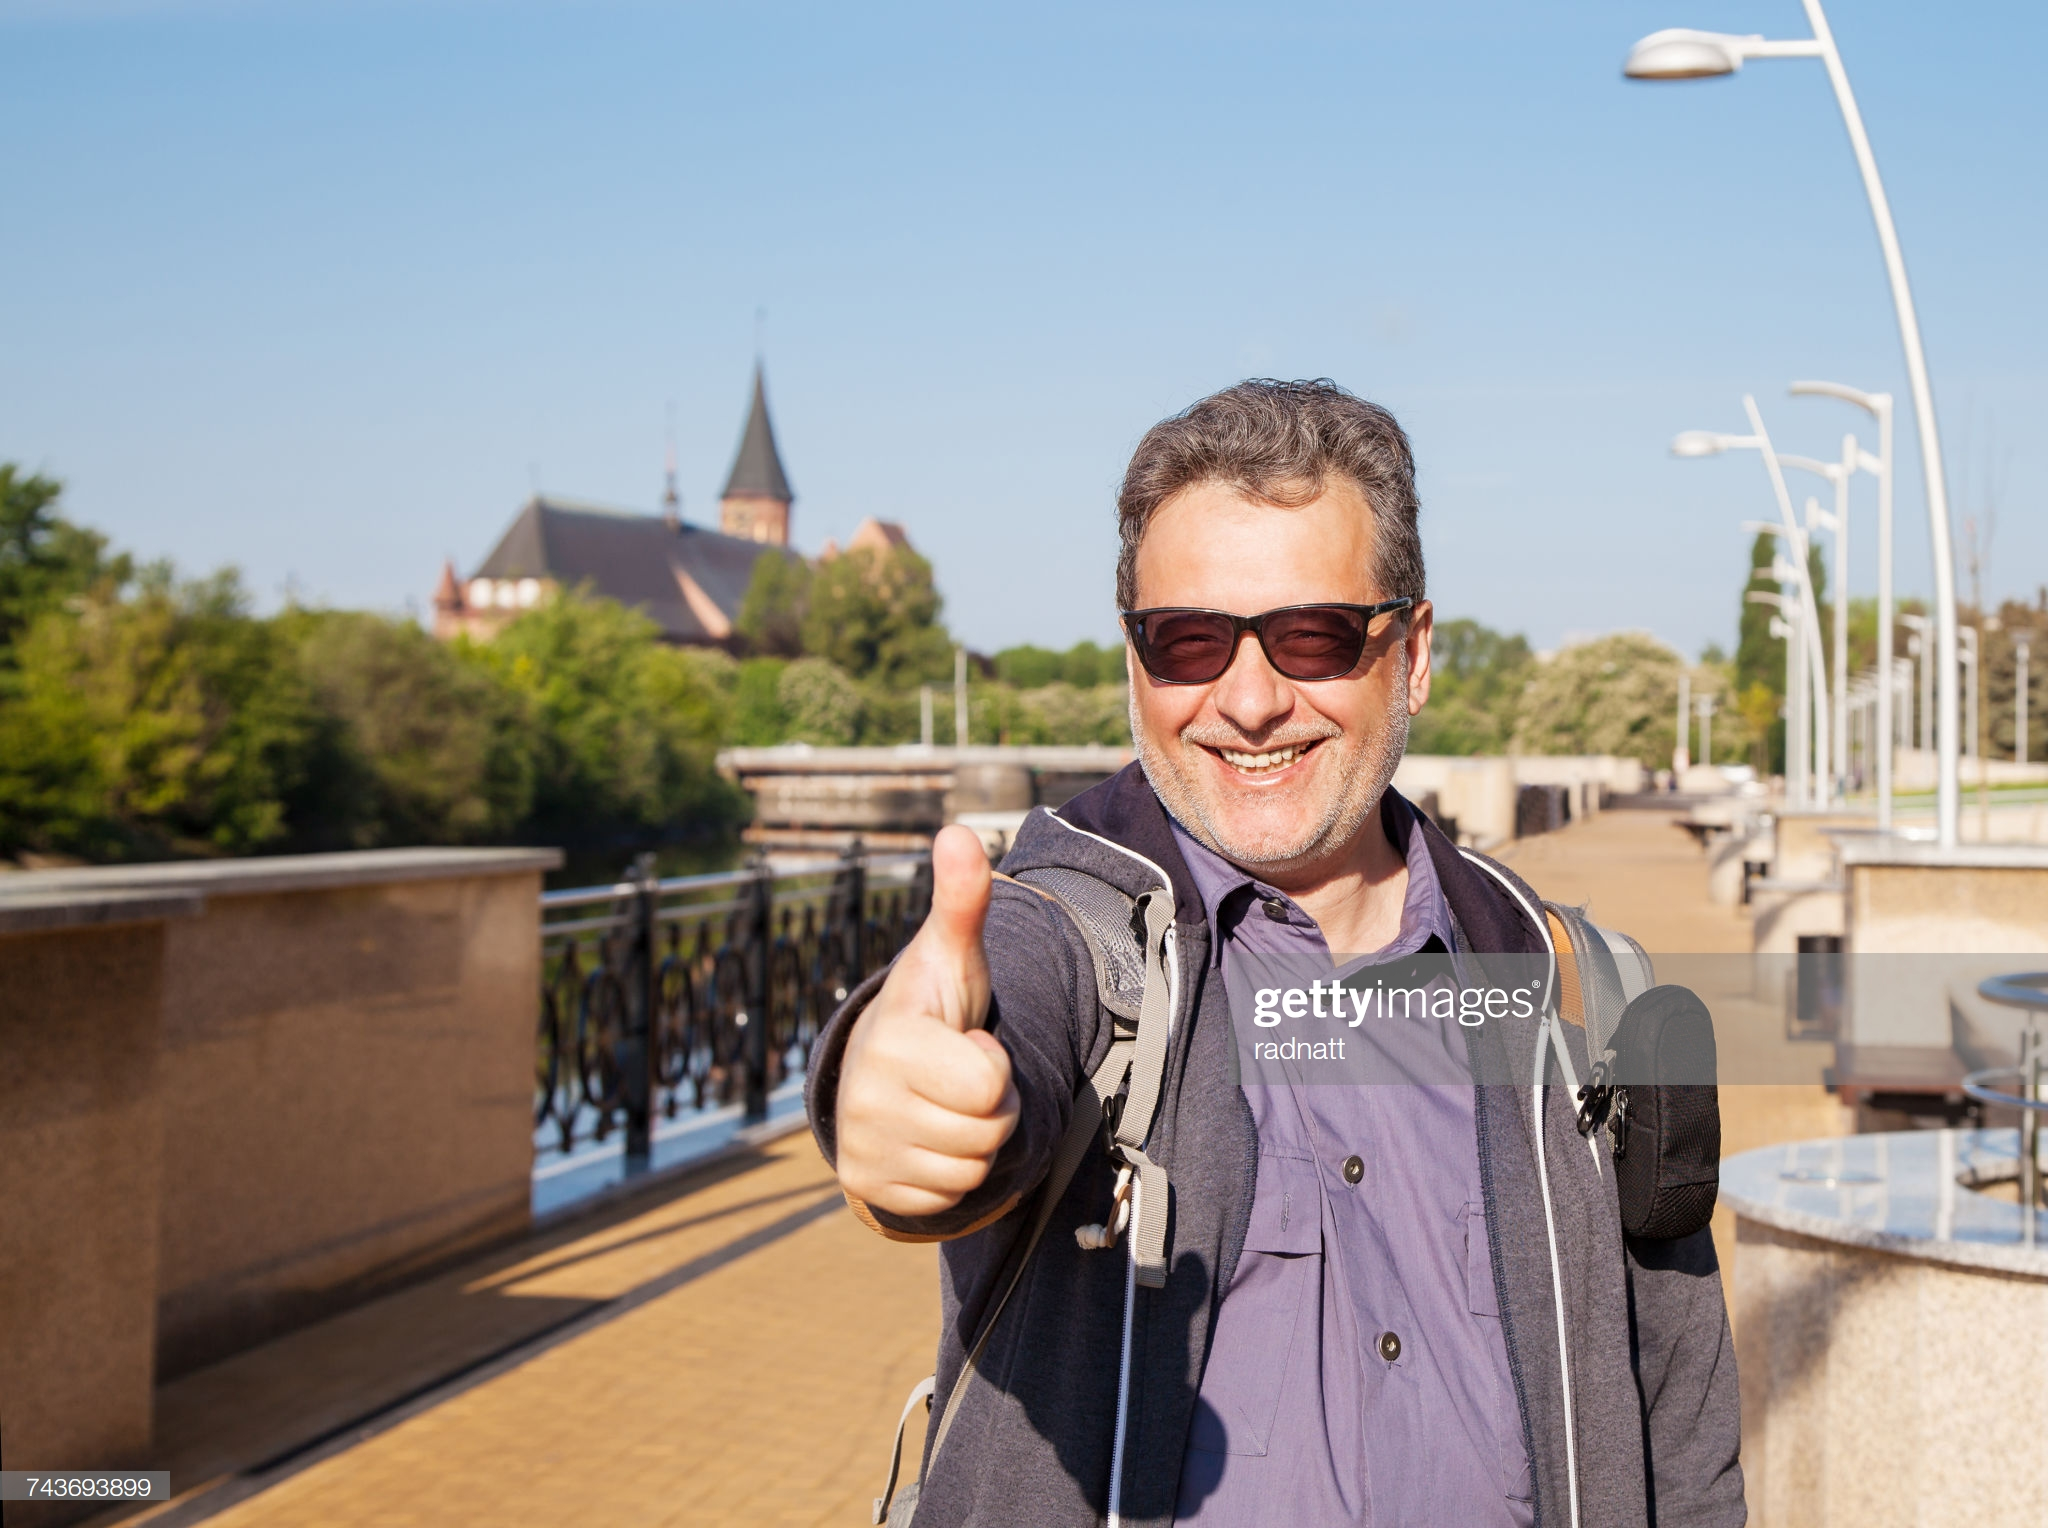thumbsup: (835, 822, 1021, 1217)
